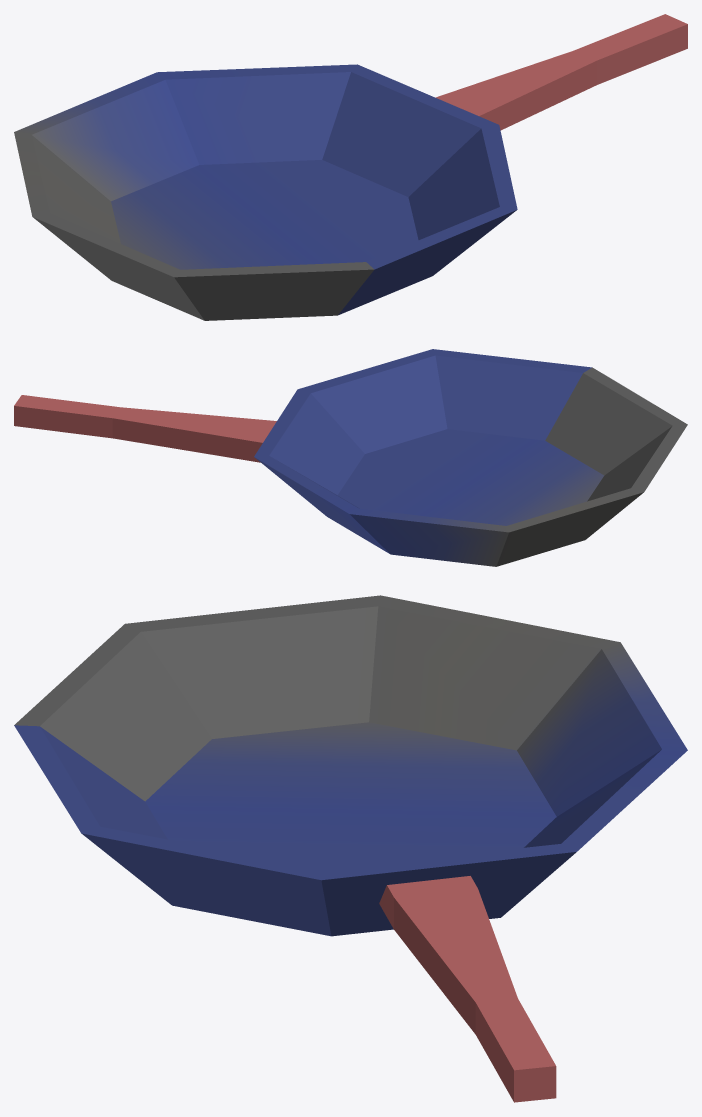
Rendered from Kitchen_Skillet.fbx.
The picture shows the model from 3 angles, top to bottom: view 1: azimuth 30°, elevation 25°; view 2: azimuth 150°, elevation 25°; view 3: azimuth 270°, elevation 25°; orthographic projection. The views are drawn at different scales.
Visible parts, largest first — view 1: Kitchen_Skillet; view 2: Kitchen_Skillet; view 3: Kitchen_Skillet.
Boxes of the visible parts, x1=… form: Kitchen_Skillet: x1=14, y1=14, x2=687, y2=320; Kitchen_Skillet: x1=14, y1=349, x2=687, y2=566; Kitchen_Skillet: x1=14, y1=595, x2=687, y2=1102.
Size of the model in its own units: 65.55 by 7.28 by 41.24.
